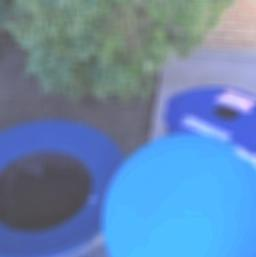algae: (100, 133, 256, 257)
